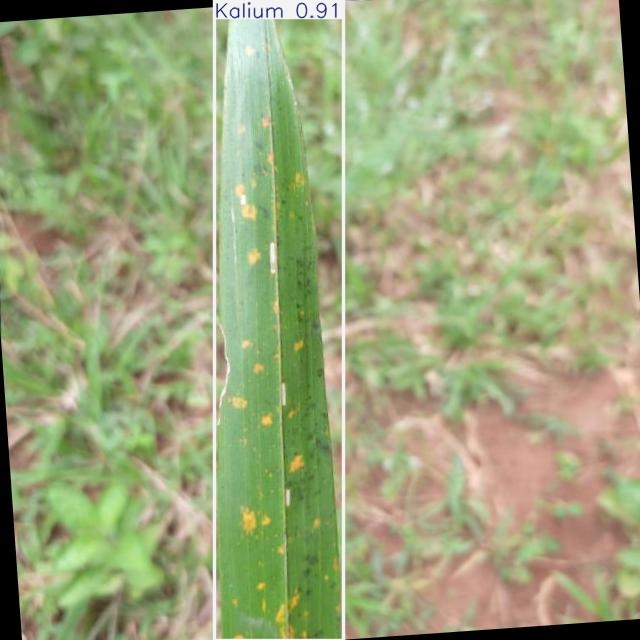Kalium: (214, 0, 344, 640)
